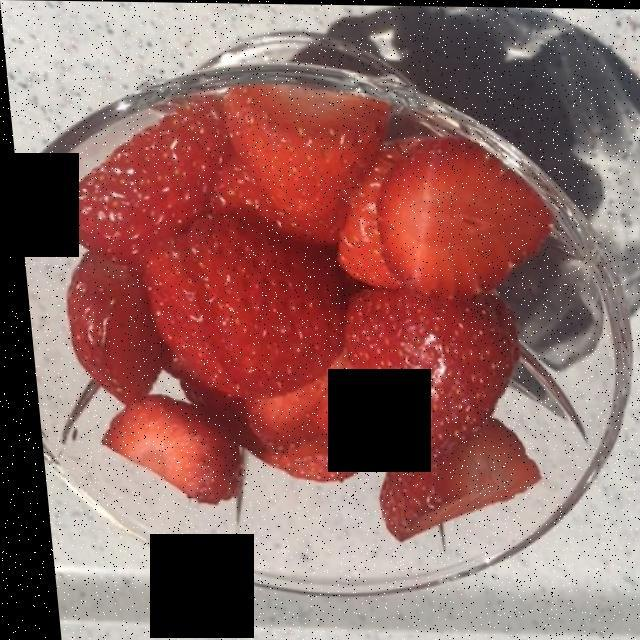strawberries: (68, 102, 538, 516)
